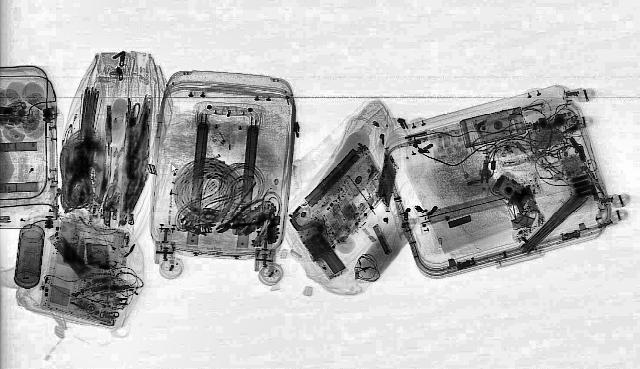Pliers: (203, 198, 285, 238)
